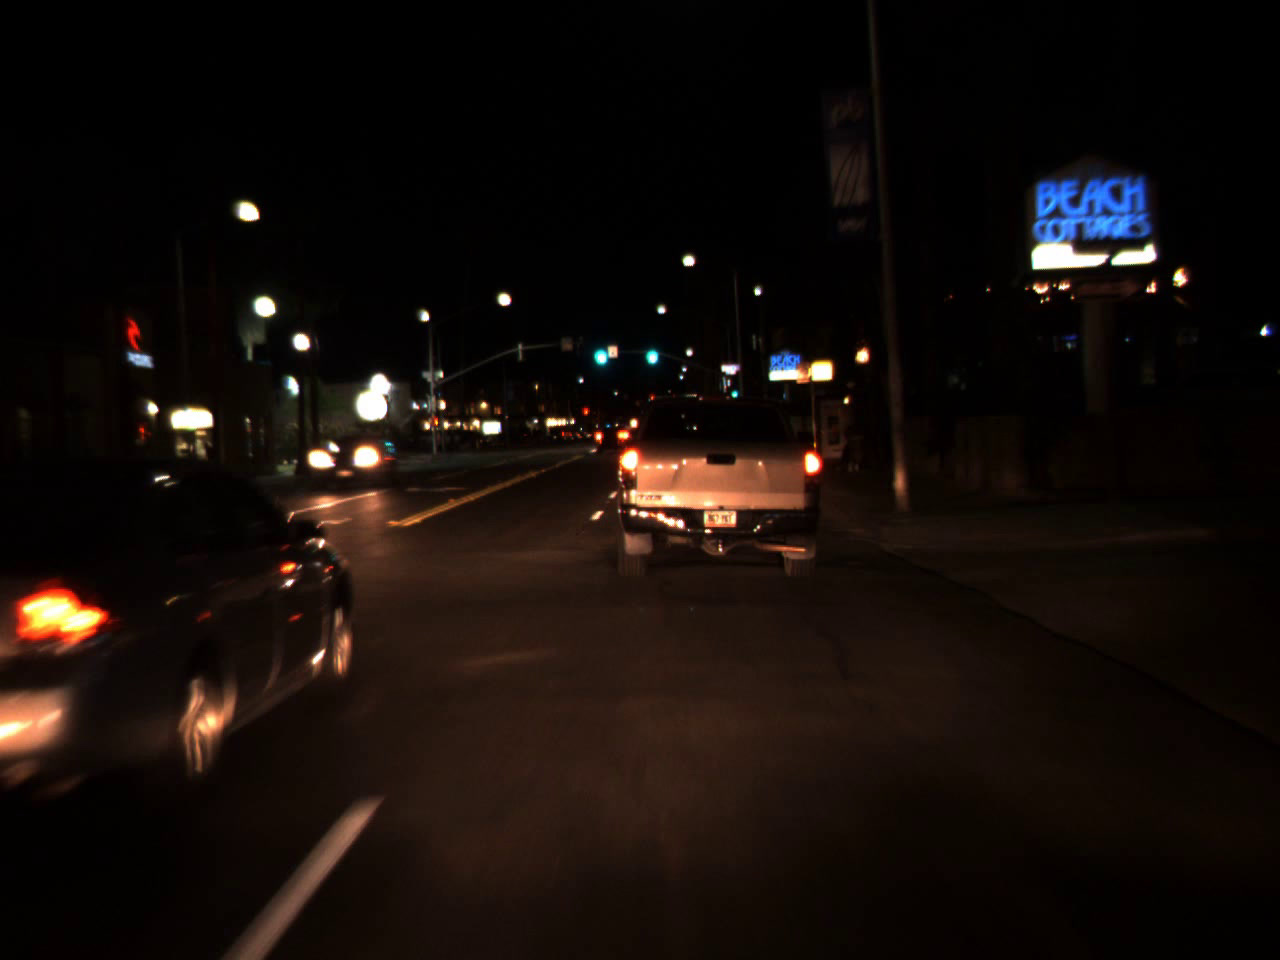go: (589, 331, 610, 370), (641, 333, 660, 369)
